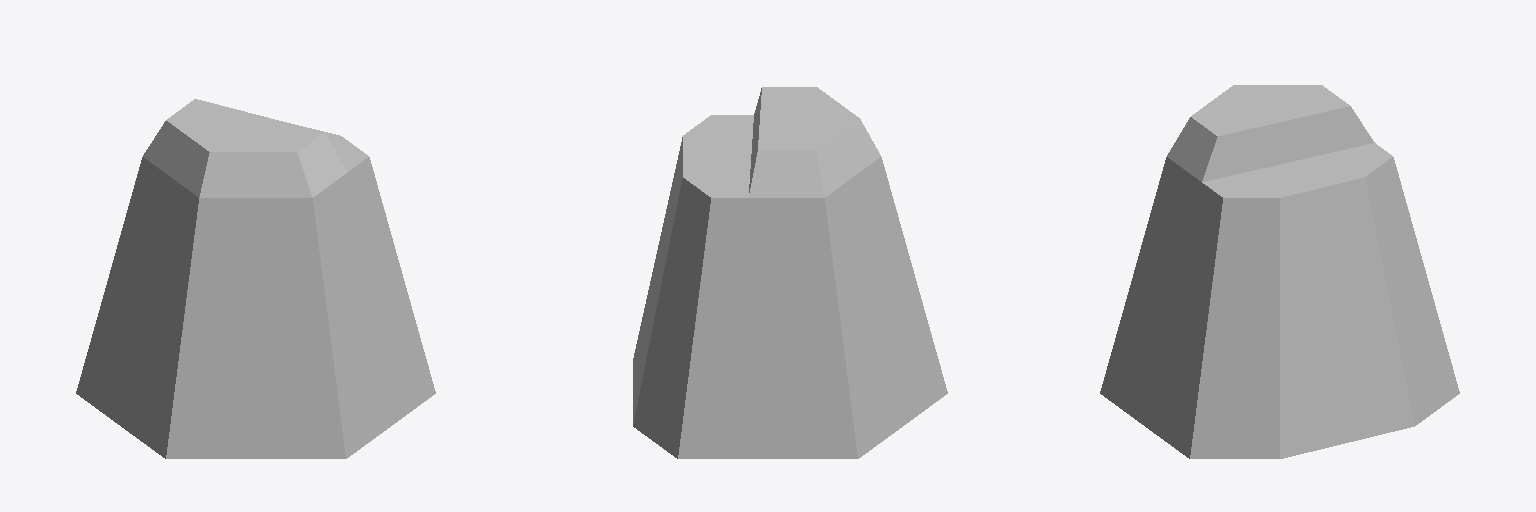
File: rock_tall5.obj
3 renders of one model, left to right at view 1: azimuth 30°, elevation 25°; view 2: azimuth 150°, elevation 25°; view 3: azimuth 270°, elevation 25°, orthographic.
Visible parts, largest first — view 1: rock_tall5; view 2: rock_tall5; view 3: rock_tall5.
Boxes of the visible parts, x1=… form: rock_tall5: x1=76, y1=99, x2=435, y2=458; rock_tall5: x1=633, y1=87, x2=947, y2=458; rock_tall5: x1=1100, y1=85, x2=1459, y2=458.
Bounding box in the file's own units: 4.56 × 4.44 × 5.27.